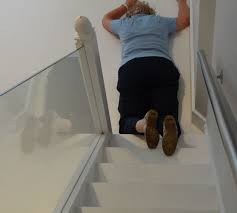falling: (99, 1, 194, 154)
